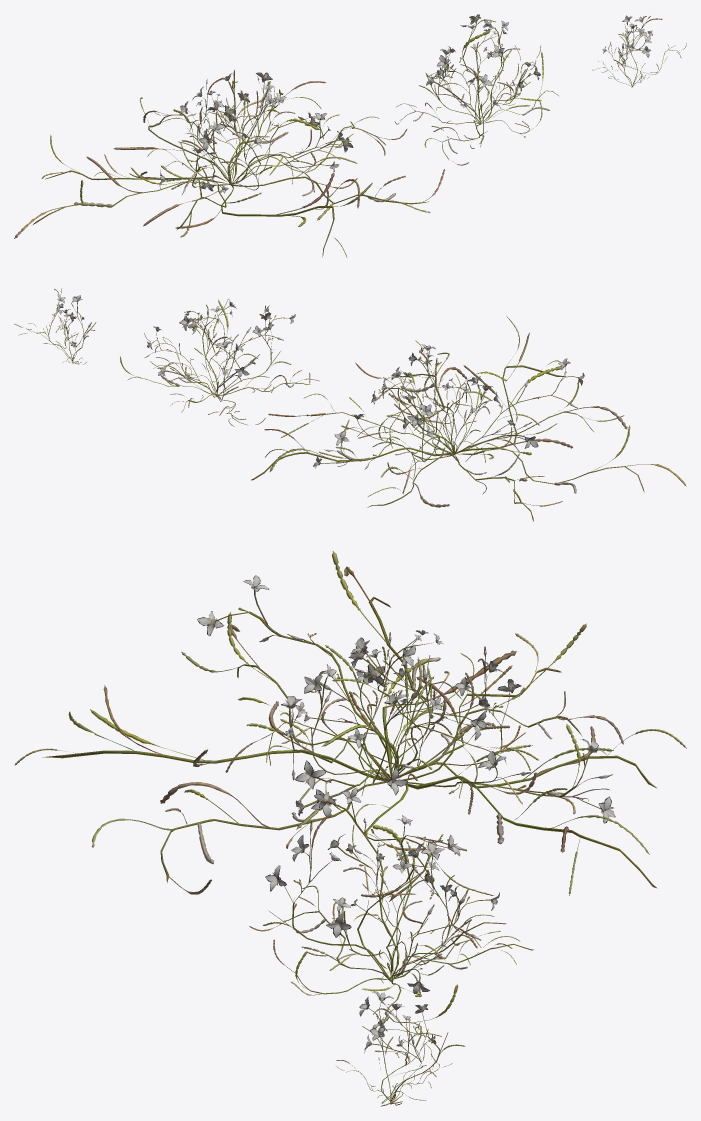
The model's file is flower_heliophila.glb.
The picture shows the model from 3 angles, top to bottom: view 1: azimuth 30°, elevation 25°; view 2: azimuth 150°, elevation 25°; view 3: azimuth 270°, elevation 25°; orthographic projection. The views are drawn at different scales.
Visible parts, largest first — view 1: flower_heliophila_large, flower_heliophila_medium, flower_heliophila_small; view 2: flower_heliophila_large, flower_heliophila_medium, flower_heliophila_small; view 3: flower_heliophila_large, flower_heliophila_medium, flower_heliophila_small.
Boxes of the visible parts, left/top/right/bottom form: flower_heliophila_large: left=14, top=70, right=445, bottom=257; flower_heliophila_medium: left=394, top=14, right=558, bottom=165; flower_heliophila_small: left=592, top=15, right=686, bottom=87; flower_heliophila_large: left=251, top=316, right=686, bottom=521; flower_heliophila_medium: left=120, top=299, right=319, bottom=426; flower_heliophila_small: left=14, top=288, right=96, bottom=364; flower_heliophila_large: left=14, top=550, right=686, bottom=923; flower_heliophila_medium: left=249, top=787, right=533, bottom=1047; flower_heliophila_small: left=336, top=991, right=465, bottom=1106.
Size of the model in its own units: 2.75 by 0.3992 by 1.42.
Materials: 1 (1 with a texture image).
